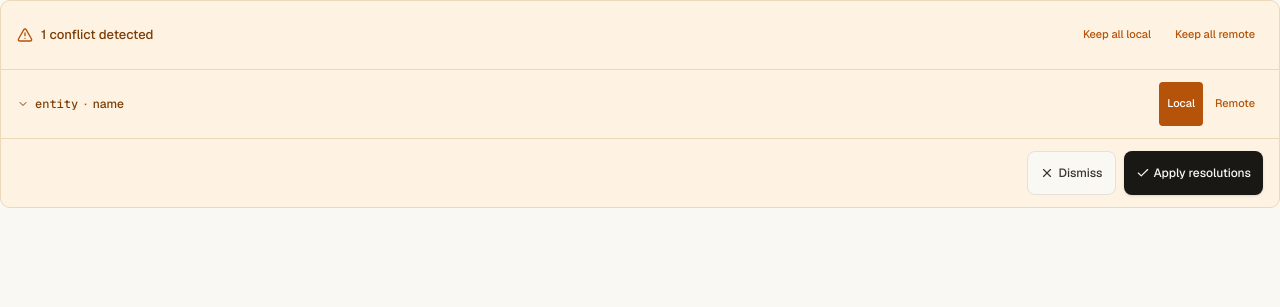
Test: ConflictUI › collapses conflict details on second click
The width and height of the screenshot is (1280, 307).
Click the text "entity". click: (57, 104)
box: x1=35 y1=96 x2=78 y2=112
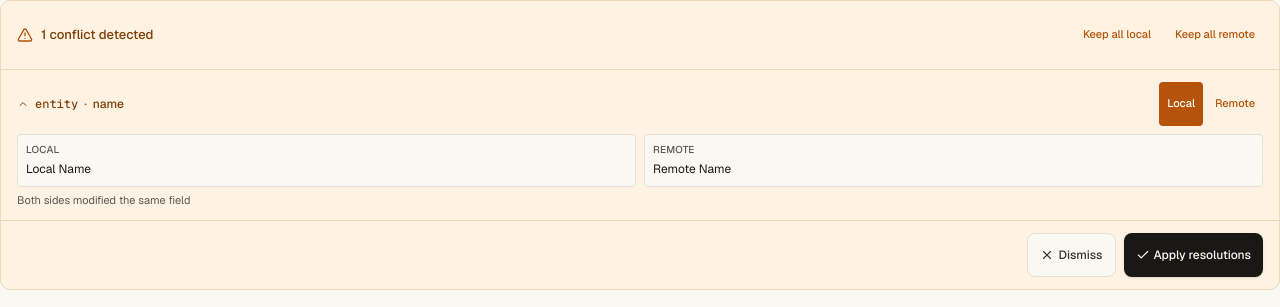
expect the text "Local Name" is shown: met, box x1=26 y1=161 x2=91 y2=177
Click the text "entity". click: (57, 104)
box: x1=35 y1=96 x2=78 y2=112
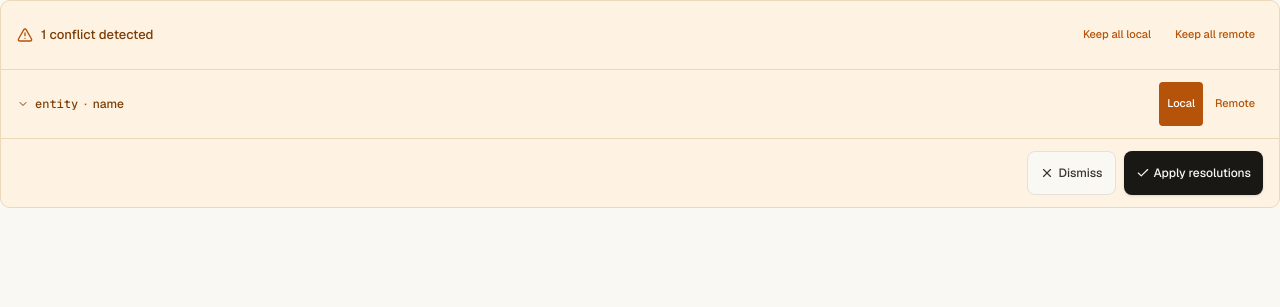
expect the text "Local Name" is gone: met
